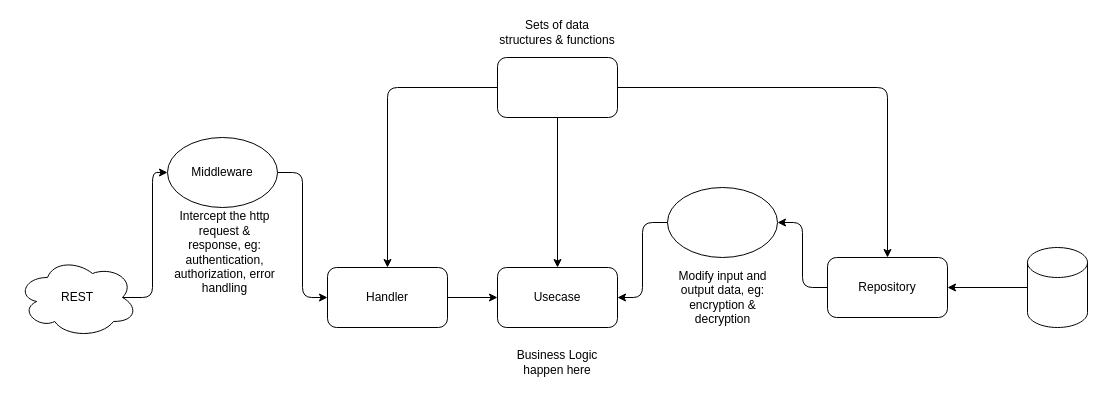
Some shapes in this 1105 by 394 pixel diagram are drawn without their labels. The shapes that lost their labels are listed below. From the top down, each one's box as (x1, y1, x2, y2) in pixels, then its label:
(496, 56, 618, 118): Entity
(666, 186, 778, 258): Proxy Repository
(1026, 246, 1088, 328): MySQL
